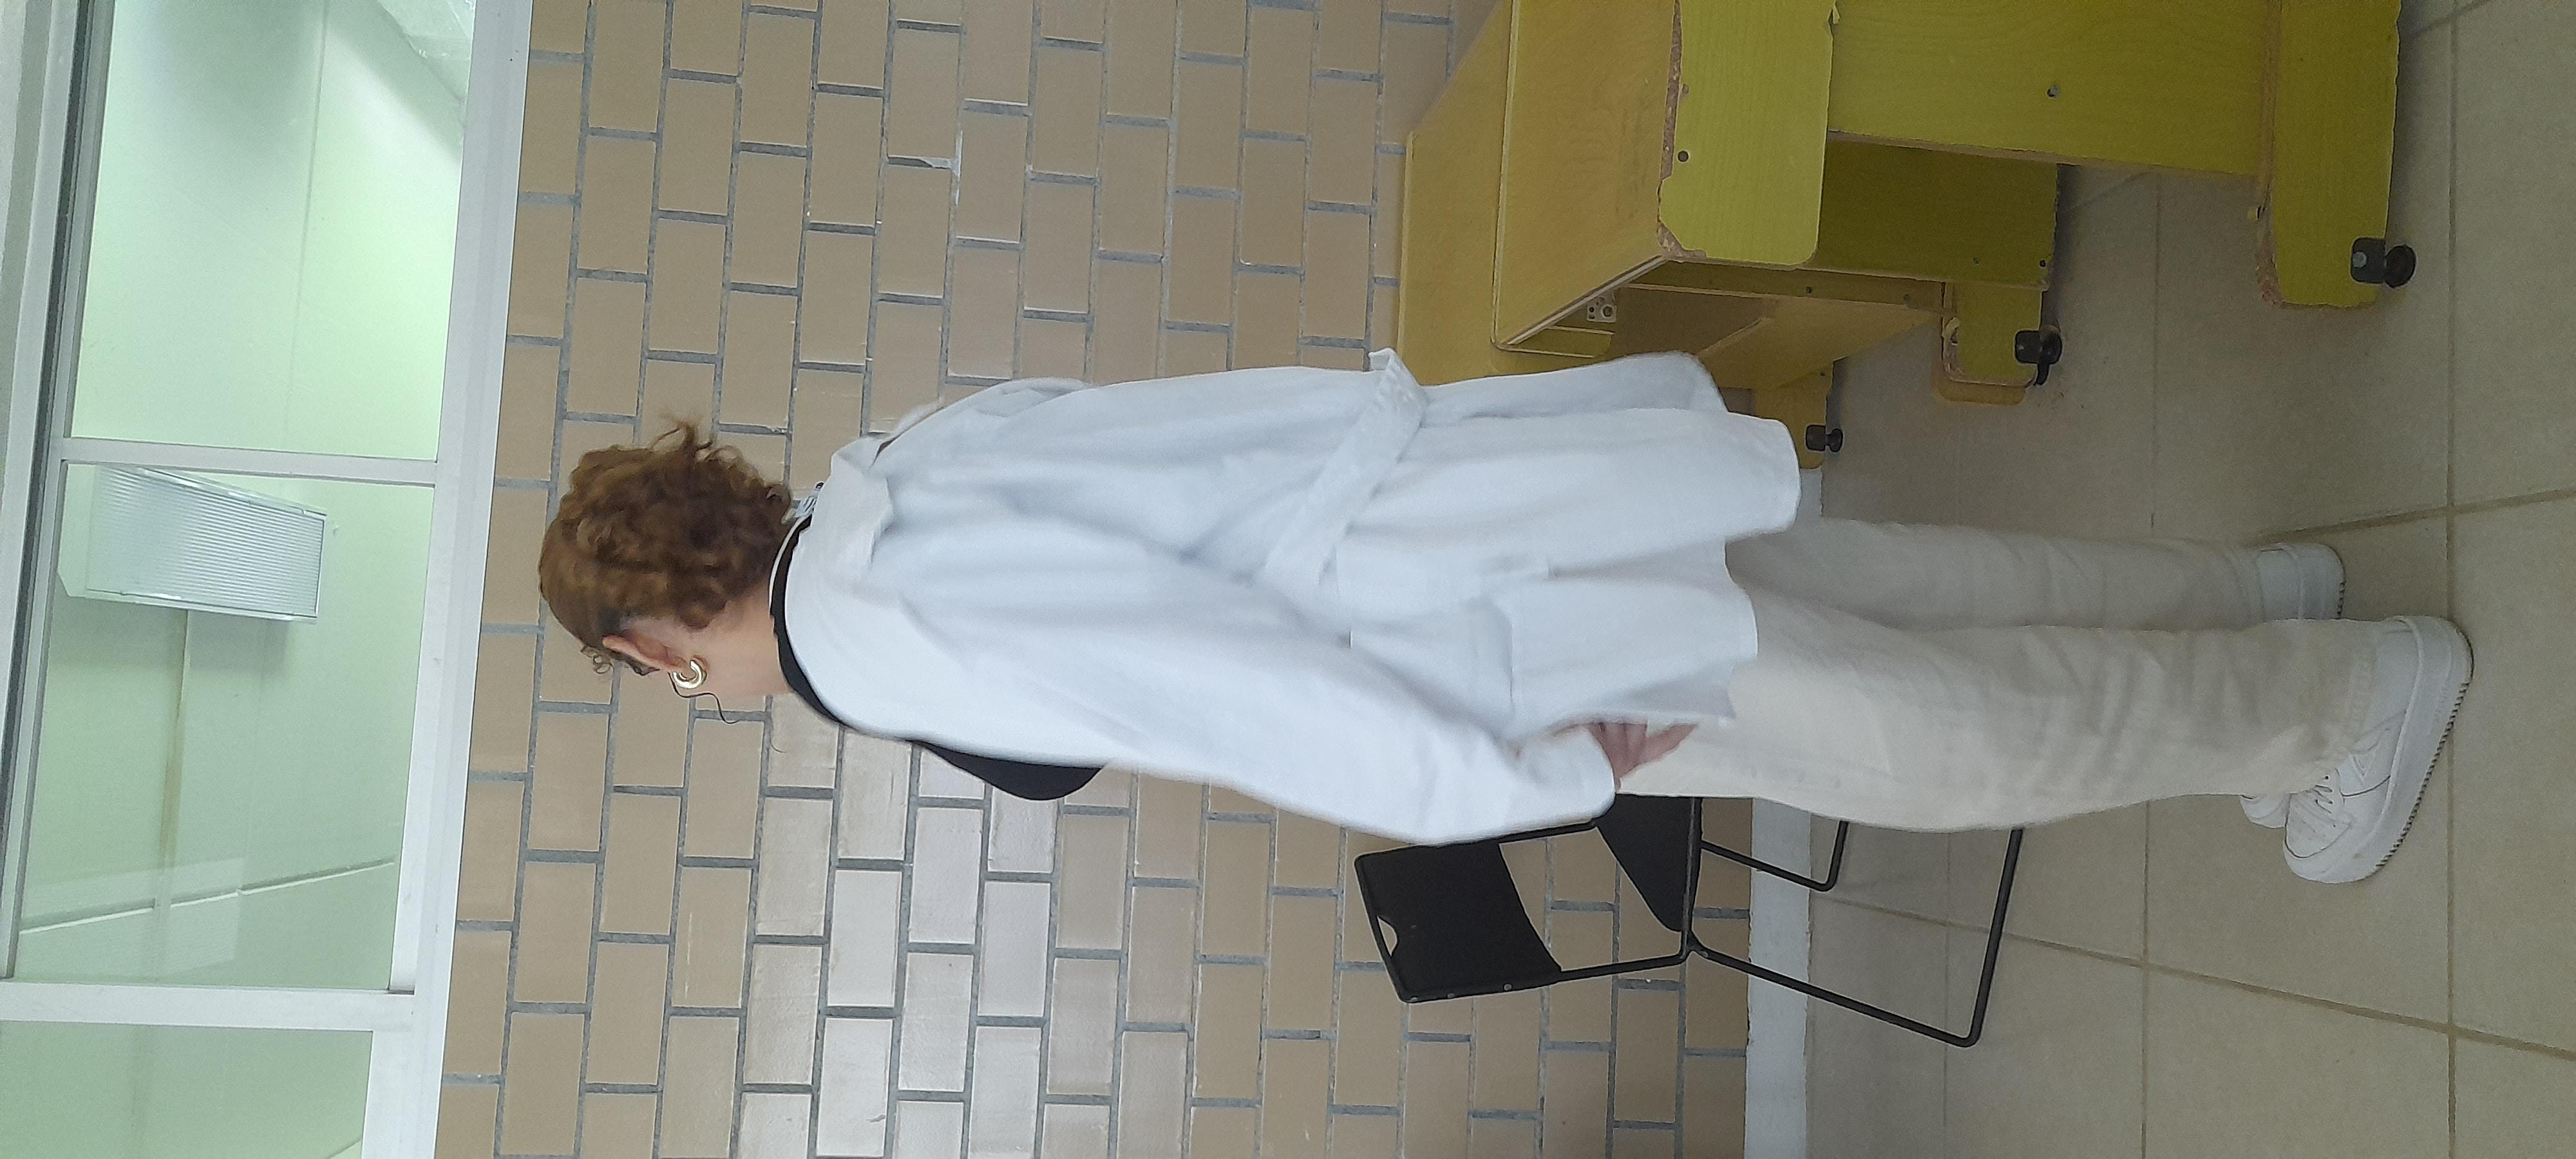Bata-Correcta: (458, 220, 1874, 1118)
